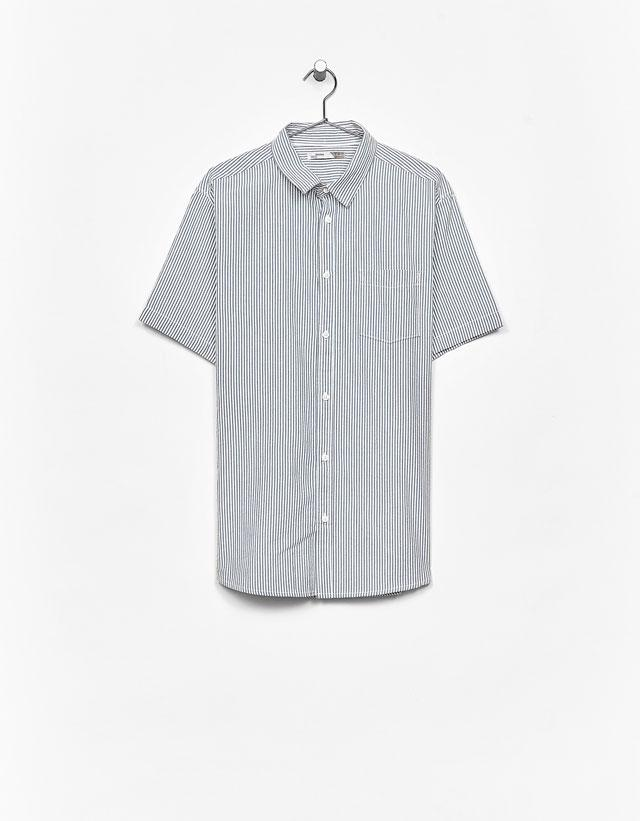teeshirt: (139, 115, 494, 634)
